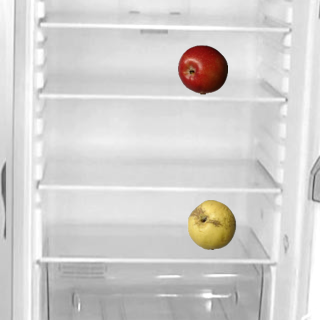Apple Braeburn: (177, 44, 227, 94)
Apple Golden 1: (186, 199, 236, 249)
